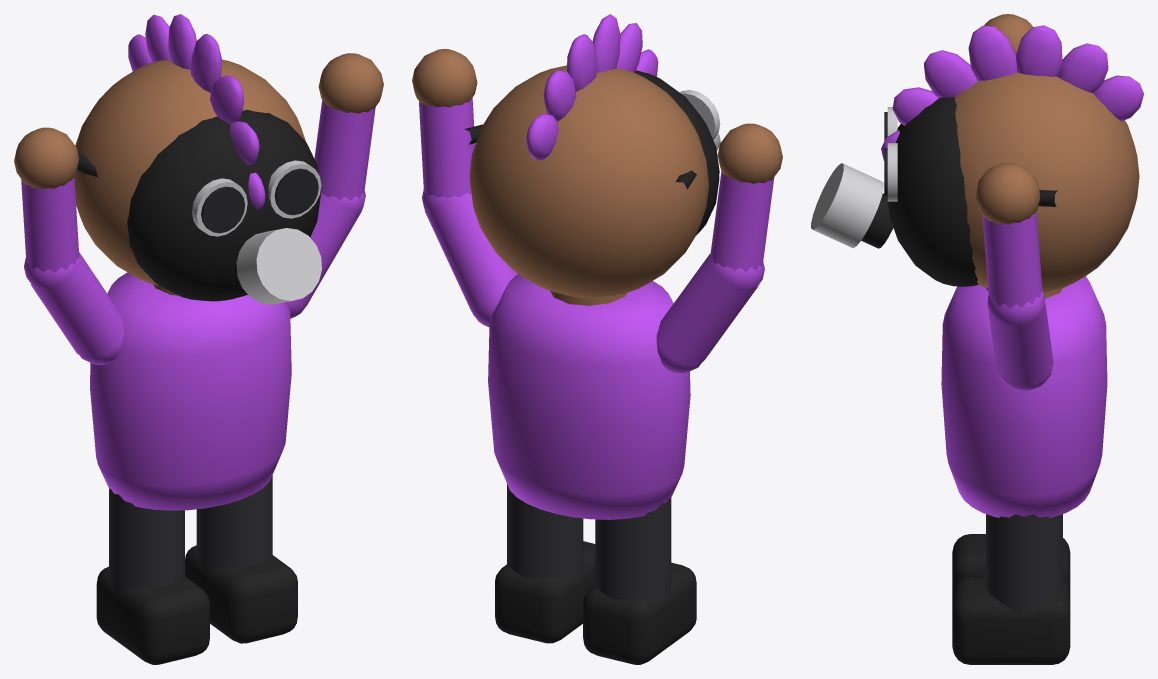
File: club_fig_gasmaske.glb
The picture shows the model from 3 angles, left to right: view 1: azimuth 30°, elevation 25°; view 2: azimuth 150°, elevation 25°; view 3: azimuth 270°, elevation 25°; orthographic projection.
Parts seen in each view (by area): view 1: FIG_gasmaske_Accent, FIG_gasmaske_Rubber, FIG_gasmaske_Skin2, FIG_gasmaske_Cloth, FIG_gasmaske_Steel, FIG_gasmaske_DustCap; view 2: FIG_gasmaske_Accent, FIG_gasmaske_Skin2, FIG_gasmaske_Rubber, FIG_gasmaske_Cloth, FIG_gasmaske_Steel; view 3: FIG_gasmaske_Accent, FIG_gasmaske_Skin2, FIG_gasmaske_Rubber, FIG_gasmaske_Cloth, FIG_gasmaske_Steel.
Boxes of the visible parts, x1,y1,x2,y2 form: FIG_gasmaske_Accent: (21,14,375,510); FIG_gasmaske_Rubber: (77,109,320,664); FIG_gasmaske_Skin2: (14,53,383,295); FIG_gasmaske_Cloth: (109,475,272,592); FIG_gasmaske_Steel: (192,160,321,304); FIG_gasmaske_DustCap: (201,168,318,233); FIG_gasmaske_Accent: (419,14,774,519); FIG_gasmaske_Skin2: (412,49,782,305); FIG_gasmaske_Rubber: (464,70,719,664); FIG_gasmaske_Cloth: (507,484,671,602); FIG_gasmaske_Steel: (680,90,720,150); FIG_gasmaske_Accent: (881,25,1143,517); FIG_gasmaske_Skin2: (955,14,1139,298); FIG_gasmaske_Rubber: (861,97,1070,664); FIG_gasmaske_Cloth: (986,514,1062,615); FIG_gasmaske_Steel: (811,107,897,248).
Size of the model in its own units: 0.51 by 0.8193 by 0.4065.
